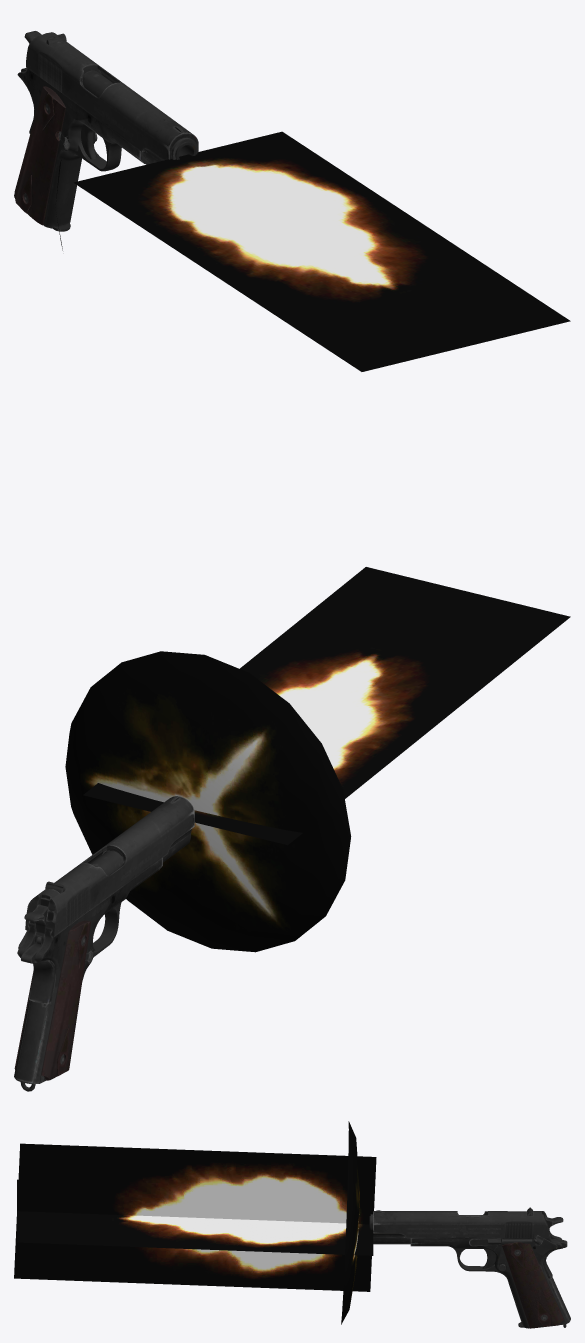
The model's file is Colt 1911.glb.
3 views of the same model, one above another, from view 1: azimuth 30°, elevation 25°; view 2: azimuth 150°, elevation 25°; view 3: azimuth 270°, elevation 25° (orthographic). The views are drawn at different scales.
Parts seen in each view (by area): view 1: MuzzleFlash, 1911_Body (×3), 1911_Slide (×2); view 2: MuzzleFlash, 1911_Body (×3), 1911_Slide (×2); view 3: MuzzleFlash, 1911_Body (×3), 1911_Slide (×3).
Boxes of the visible parts, x1,y1,x2,y2 form: MuzzleFlash: [55, 131, 570, 371]; 1911_Body (×3): [14, 31, 196, 228]; 1911_Slide (×2): [26, 32, 198, 163]; MuzzleFlash: [65, 567, 570, 952]; 1911_Body (×3): [14, 850, 162, 1091]; 1911_Slide (×2): [25, 796, 194, 936]; MuzzleFlash: [14, 1121, 376, 1324]; 1911_Body (×3): [369, 1215, 570, 1328]; 1911_Slide (×3): [370, 1207, 549, 1244].
Bounding box in the file's own units: 0.1994 × 0.2082 × 0.5346.
2 materials, 2 textured.
